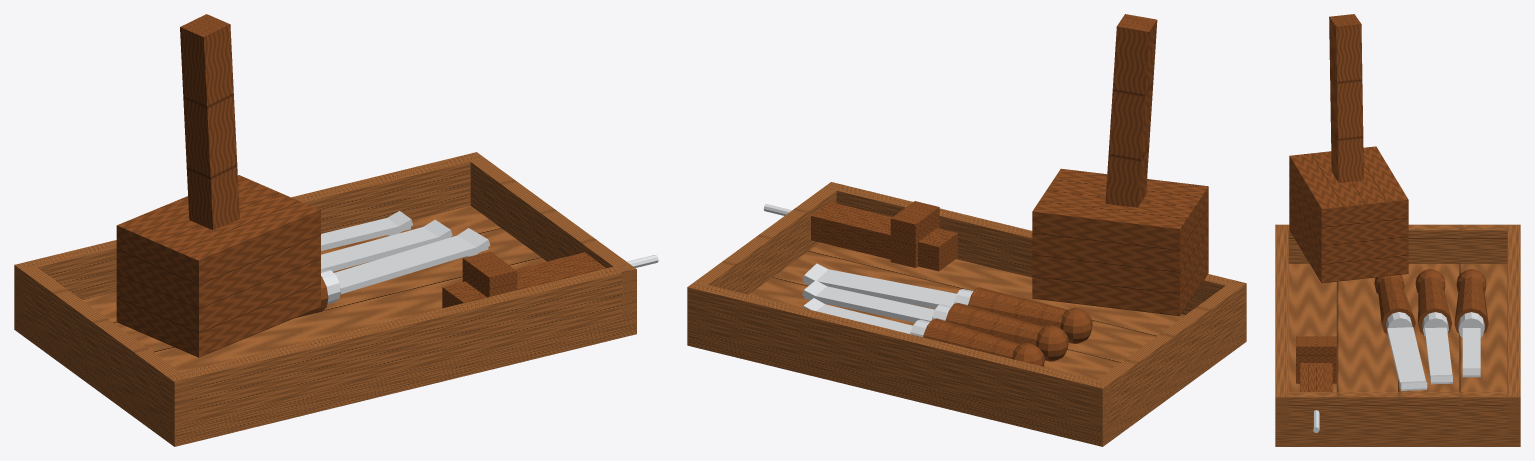
The model's file is woodworking-workshop-and-joinery-woodworking-workshop--5ac95e85__34257.glb.
The picture shows the model from 3 angles, left to right: view 1: azimuth 30°, elevation 25°; view 2: azimuth 150°, elevation 25°; view 3: azimuth 270°, elevation 25°; orthographic projection. The views are drawn at different scales.
Visible parts, largest first — view 1: woodworking-workshop-and-joinery-mallet-and-chisels; view 2: woodworking-workshop-and-joinery-mallet-and-chisels; view 3: woodworking-workshop-and-joinery-mallet-and-chisels.
Part boxes in pixels (x1,y1,x2,y2): woodworking-workshop-and-joinery-mallet-and-chisels: [14, 14, 658, 446]; woodworking-workshop-and-joinery-mallet-and-chisels: [687, 14, 1246, 446]; woodworking-workshop-and-joinery-mallet-and-chisels: [1275, 14, 1520, 446].
Size of the model in its own units: 0.55 by 0.3825 by 0.3.
3 materials, 2 textured.
